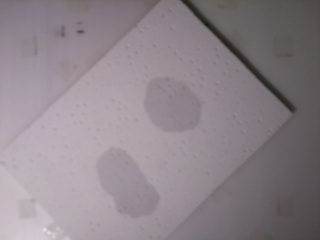Water_detected: (100, 153, 149, 213), (150, 77, 195, 134)
